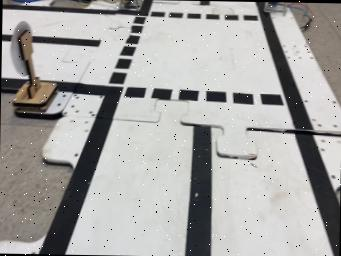street: (1, 0, 340, 256), (1, 0, 340, 256), (1, 0, 340, 256), (1, 0, 340, 256), (1, 0, 340, 256), (1, 0, 340, 256)
